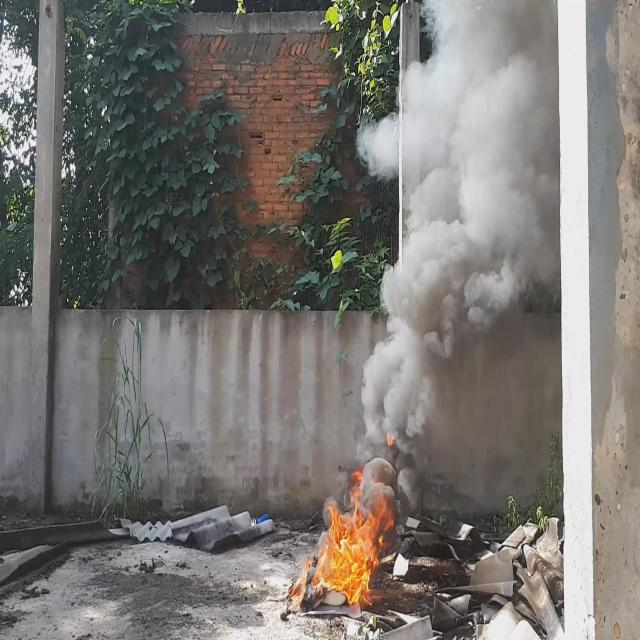Fire: (313, 464, 396, 608)
Smoke: (357, 0, 556, 461)
